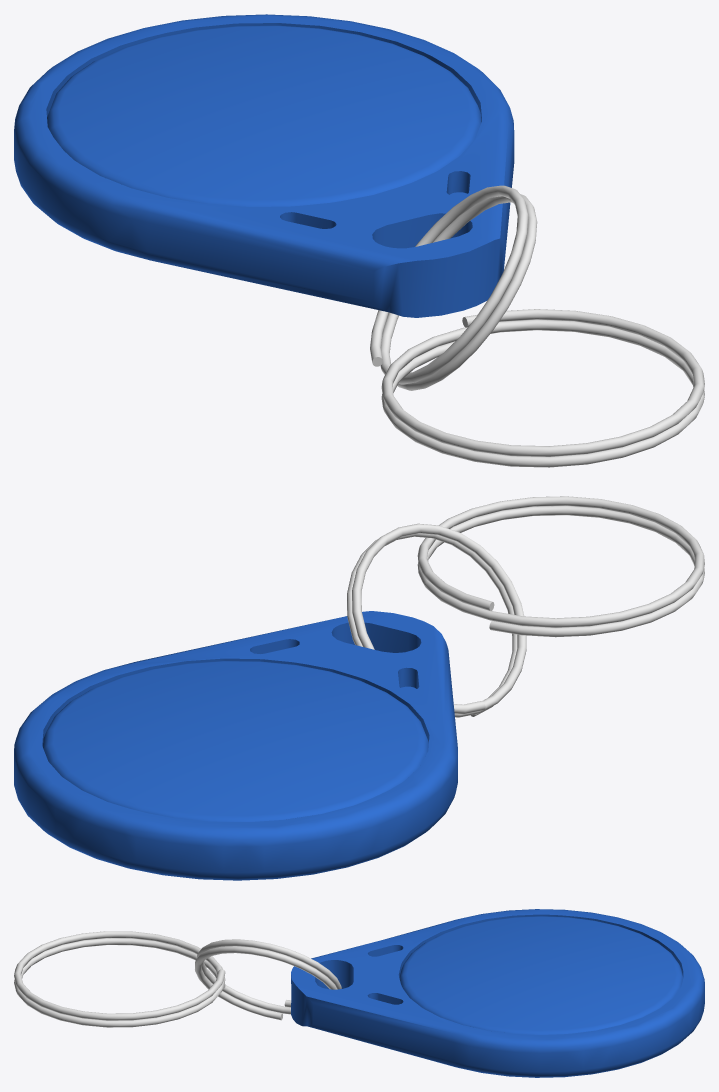
3 views of the same model, one above another, from view 1: azimuth 30°, elevation 25°; view 2: azimuth 150°, elevation 25°; view 3: azimuth 270°, elevation 25° (orthographic). The views are drawn at different scales.
Visible parts, largest first — view 1: Boole_Blue_0_9, Llavero_1_v4_Chrome_0_7; view 2: Boole_Blue_0_9, Llavero_1_v4_Chrome_0_7; view 3: Boole_Blue_0_9, Llavero_1_v4_Chrome_0_7.
Boxes of the visible parts, box(x1,y1,x2,y2) form: Boole_Blue_0_9: box(14, 14, 514, 317); Llavero_1_v4_Chrome_0_7: box(370, 185, 704, 467); Boole_Blue_0_9: box(14, 611, 457, 880); Llavero_1_v4_Chrome_0_7: box(347, 496, 704, 717); Boole_Blue_0_9: box(291, 909, 704, 1077); Llavero_1_v4_Chrome_0_7: box(14, 931, 341, 1027).
Bounding box in the file's own units: 0.0321 × 0.0121 × 0.0678.
